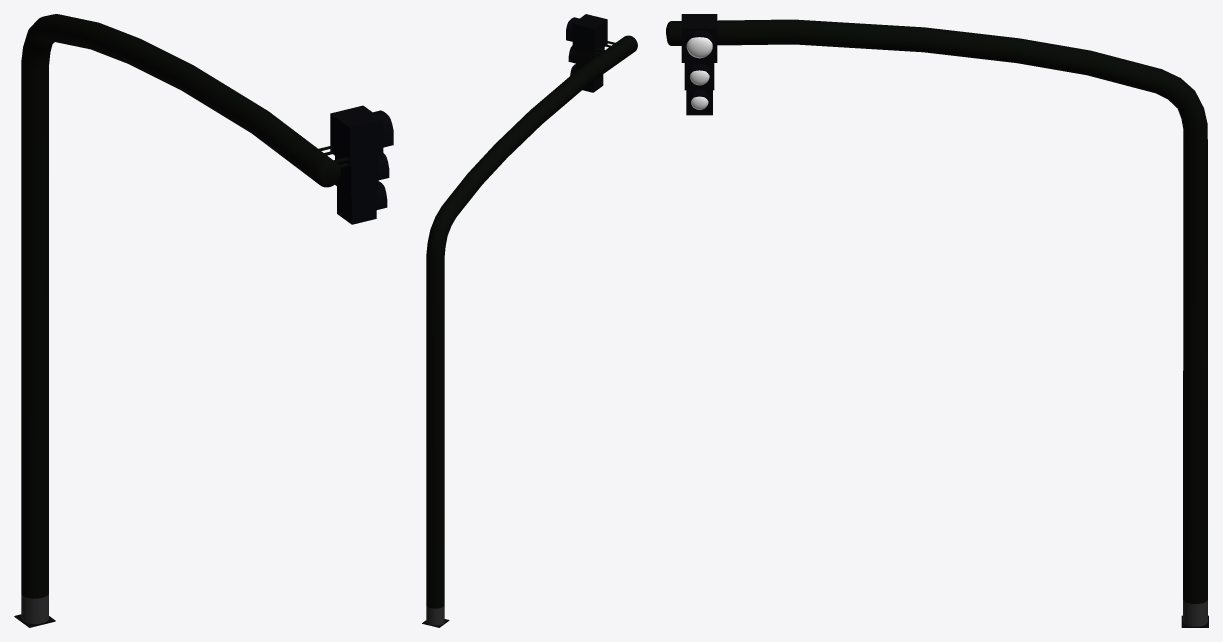
File: semaforo.fbx
3 views of the same model, side by side, from view 1: azimuth 30°, elevation 25°; view 2: azimuth 150°, elevation 25°; view 3: azimuth 270°, elevation 25° (orthographic). The views are drawn at different scales.
Visible parts, largest first — view 1: Cube.001; view 2: Cube.001; view 3: Cube.001.
Boxes of the visible parts, <box> form: Cube.001: <box>14,14,393,627</box>; Cube.001: <box>422,14,637,627</box>; Cube.001: <box>666,14,1208,627</box>.
Size of the model in its own units: 57.91 by 450 by 357.
3 materials, 3 textured.
